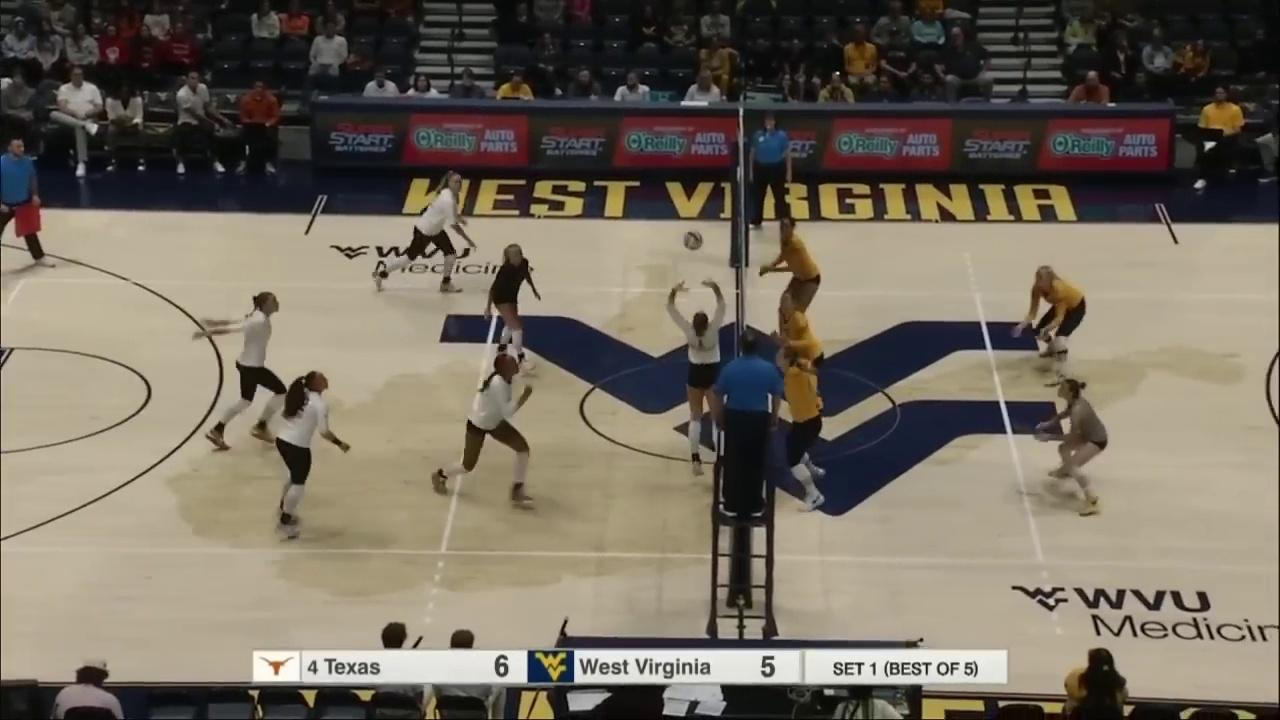player: (432, 355, 545, 509), (200, 285, 286, 446), (271, 374, 348, 546), (372, 165, 469, 293), (1036, 379, 1110, 518), (770, 349, 831, 508), (1014, 268, 1093, 384), (674, 302, 725, 475), (770, 291, 823, 449), (765, 216, 823, 351), (482, 240, 534, 372)
refree: (707, 330, 786, 524), (0, 139, 60, 273), (746, 110, 791, 234)
